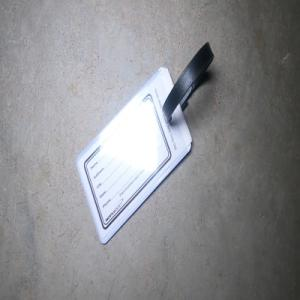LuggageTag: (74, 39, 215, 246)
